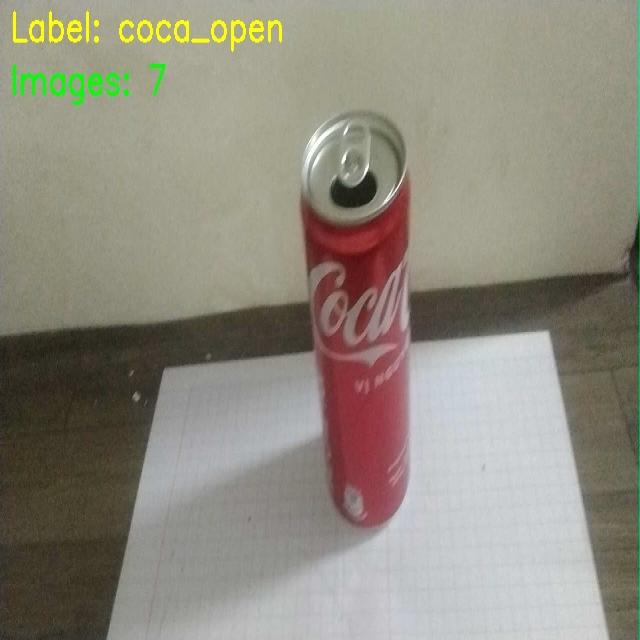Coca_open: (281, 88, 452, 537)
